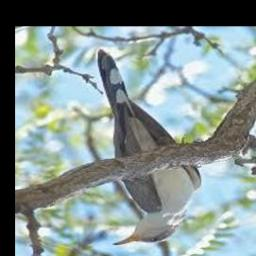Cuckoo: (96, 50, 201, 246)
